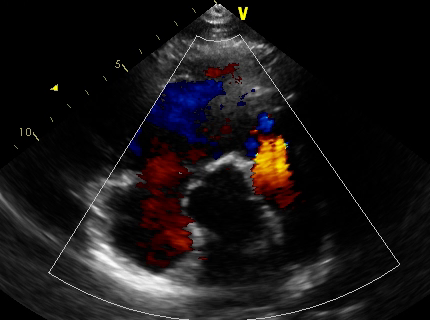PR: (249, 135, 293, 191)
